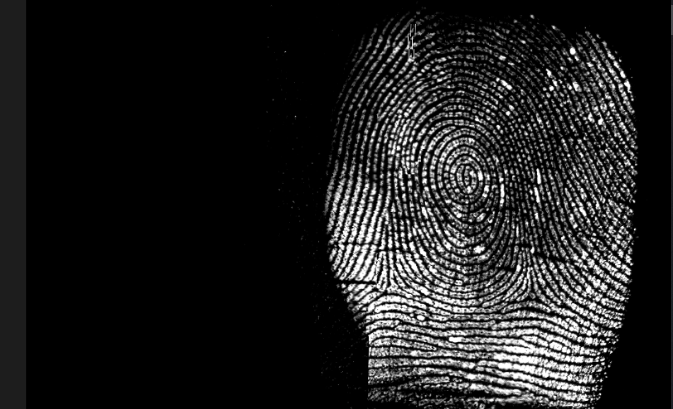deltas: (365, 259, 409, 303), (513, 269, 551, 315)
nucleo: (442, 149, 485, 195)
